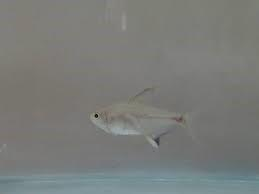Glass Perchlet: (86, 87, 199, 151)
